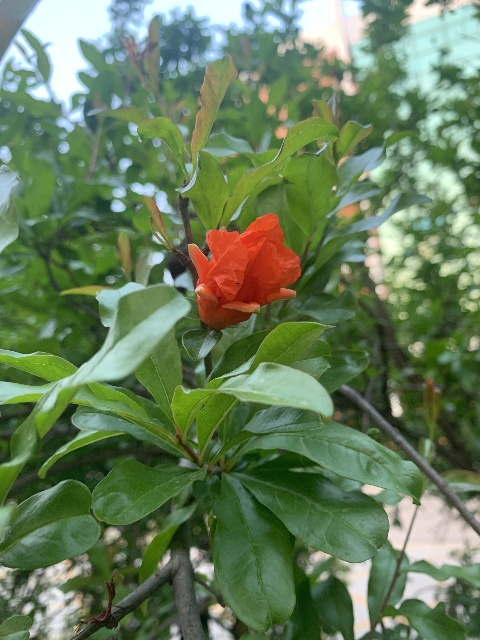flower: (188, 212, 301, 330)
